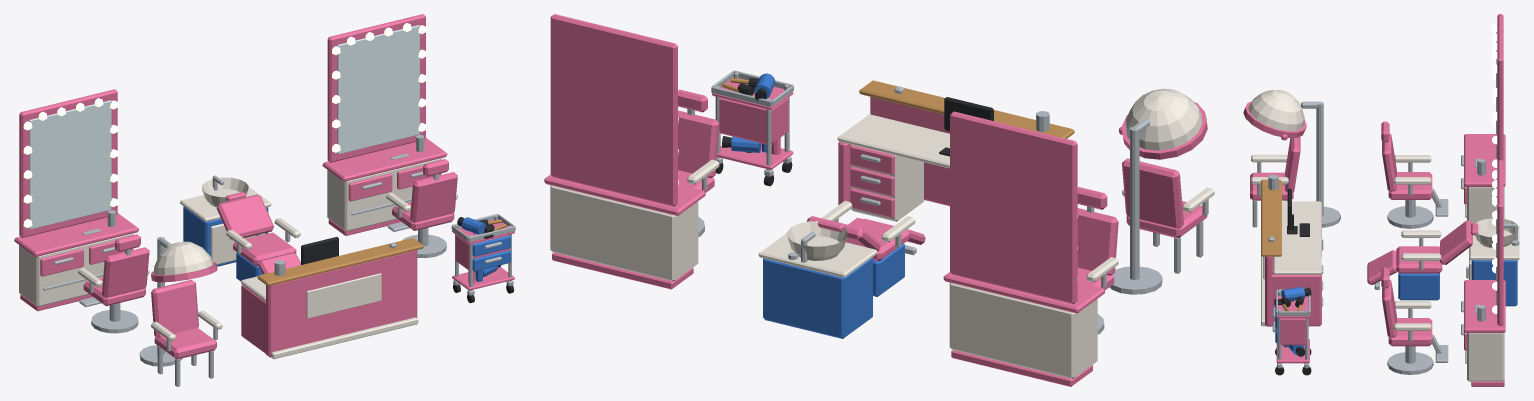
File: hair-salon-set.glb
3 renders of one model, left to right at view 1: azimuth 30°, elevation 25°; view 2: azimuth 150°, elevation 25°; view 3: azimuth 270°, elevation 25°, orthographic. The views are drawn at different scales.
Parts seen in each view (by area): view 1: StylingStation_2_MirrorGlass, StylingStation_1_MirrorGlass, ReceptionDesk_FrontPanel, StylingStation_1_MirrorFrame, StylingStation_2_MirrorFrame, StylingStation_2_Cabinet, StylingStation_1_Cabinet, StylingStation_2_Top, StylingStation_1_Top, ReceptionDesk_Sign, HoodDryerChair_Back, ReceptionDesk_Ledge (+28 smaller); view 2: StylingStation_1_MirrorFrame, StylingStation_2_MirrorFrame, StylingStation_1_Cabinet, StylingStation_2_Cabinet, WashStation_Cabinet, HoodDryerChair_Hood, ReceptionDesk_DeskTop, HoodDryerChair_Back, ReceptionDesk, ReceptionDesk_FrontPanel, Trolley_DrawerBody, ReceptionDesk_Ledge (+19 smaller); view 3: ReceptionDesk_DeskTop, StylingStation_2_Cabinet, HoodDryerChair_Hood, StylingStation_2_Top, StylingStation_1_Top, ReceptionDesk_Ledge, ReceptionDesk_Side1, WashStation_ChairBase, StylingStation_2_MirrorFrame, WashStation_Cabinet, StylingStation_1_MirrorFrame, StylingStation_1_Cabinet (+31 smaller).
Boxes of the visible parts, left/top/right/bottom form: StylingStation_2_MirrorGlass: left=337, top=25, right=419, bottom=154; StylingStation_1_MirrorGlass: left=29, top=100, right=111, bottom=229; ReceptionDesk_FrontPanel: left=266, top=250, right=417, bottom=357; StylingStation_1_MirrorFrame: left=19, top=89, right=117, bottom=237; StylingStation_2_MirrorFrame: left=327, top=14, right=425, bottom=162; StylingStation_2_Cabinet: left=327, top=158, right=441, bottom=231; StylingStation_1_Cabinet: left=19, top=233, right=133, bottom=306; StylingStation_2_Top: left=322, top=138, right=447, bottom=181; StylingStation_1_Top: left=14, top=213, right=138, bottom=256; ReceptionDesk_Sign: left=306, top=273, right=381, bottom=318; HoodDryerChair_Back: left=151, top=280, right=198, bottom=337; ReceptionDesk_Ledge: left=257, top=238, right=423, bottom=286; StylingStation_1_MirrorFrame: left=950, top=111, right=1077, bottom=303; StylingStation_2_MirrorFrame: left=550, top=14, right=677, bottom=206; StylingStation_1_Cabinet: left=949, top=282, right=1097, bottom=378; StylingStation_2_Cabinet: left=550, top=185, right=698, bottom=281; WashStation_Cabinet: left=763, top=257, right=872, bottom=338; HoodDryerChair_Hood: left=1125, top=88, right=1202, bottom=150; ReceptionDesk_DeskTop: left=837, top=114, right=949, bottom=168; HoodDryerChair_Back: left=1122, top=158, right=1183, bottom=228; ReceptionDesk: left=850, top=145, right=894, bottom=217; ReceptionDesk_FrontPanel: left=870, top=97, right=949, bottom=206; Trolley_DrawerBody: left=719, top=97, right=788, bottom=144; ReceptionDesk_Ledge: left=859, top=80, right=1074, bottom=138; ReceptionDesk_DeskTop: left=1273, top=201, right=1321, bottom=274; StylingStation_2_Cabinet: left=1467, top=333, right=1504, bottom=381; HoodDryerChair_Hood: left=1248, top=90, right=1304, bottom=130; StylingStation_2_Top: left=1464, top=280, right=1505, bottom=332; StylingStation_1_Top: left=1464, top=134, right=1505, bottom=186; ReceptionDesk_Ledge: left=1261, top=179, right=1281, bottom=256; ReceptionDesk_Side1: left=1271, top=274, right=1321, bottom=326; WashStation_ChairBase: left=1398, top=273, right=1439, bottom=300; StylingStation_2_MirrorFrame: left=1497, top=160, right=1503, bottom=325; WashStation_Cabinet: left=1471, top=260, right=1517, bottom=306; StylingStation_1_MirrorFrame: left=1497, top=14, right=1503, bottom=161; StylingStation_1_Cabinet: left=1467, top=187, right=1504, bottom=223.
Bounding box in the file's own units: 22.12 × 9.65 × 13.2.
